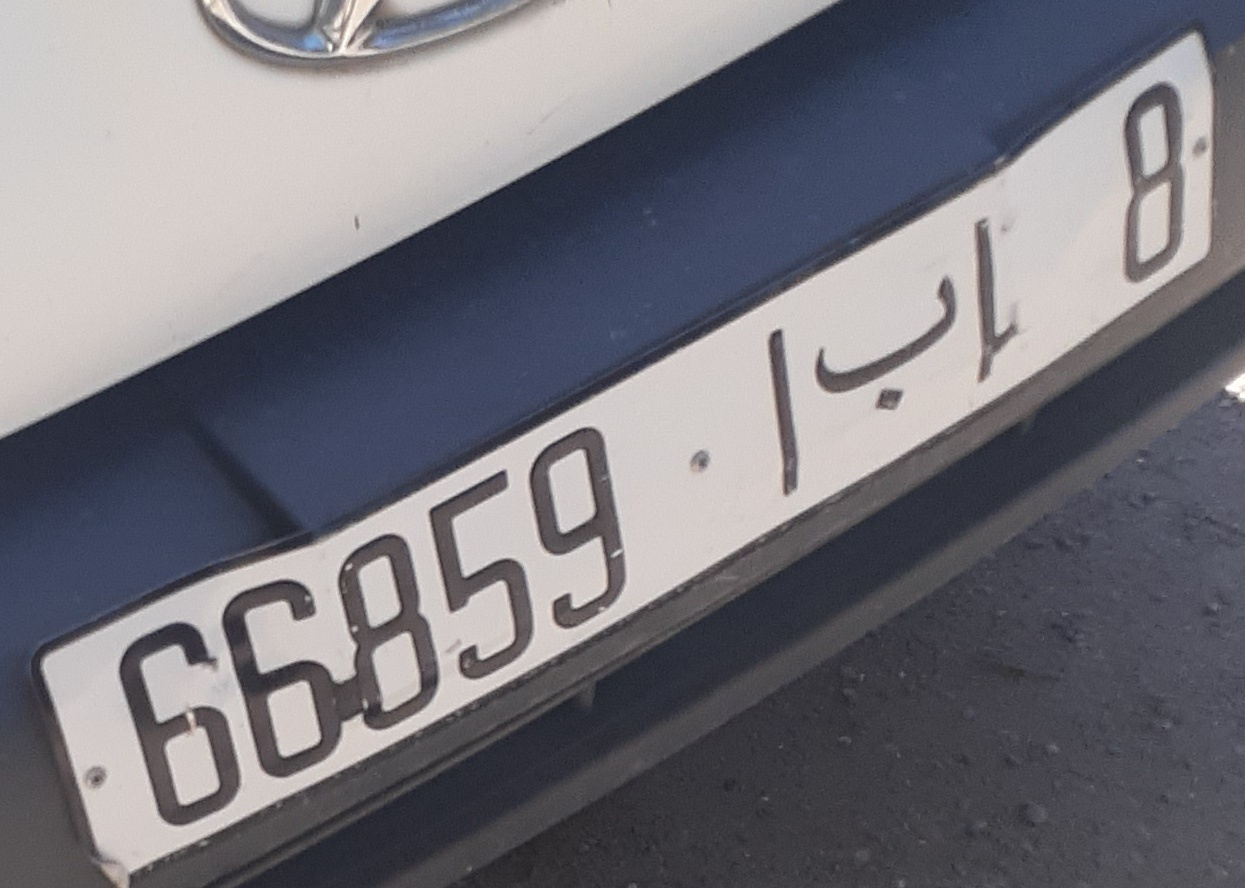5: (423, 456, 524, 701)
6: (104, 606, 251, 832), (216, 574, 337, 791)
8: (330, 522, 429, 731), (1108, 75, 1194, 288)
9: (521, 406, 635, 647)
b: (799, 262, 969, 430)
